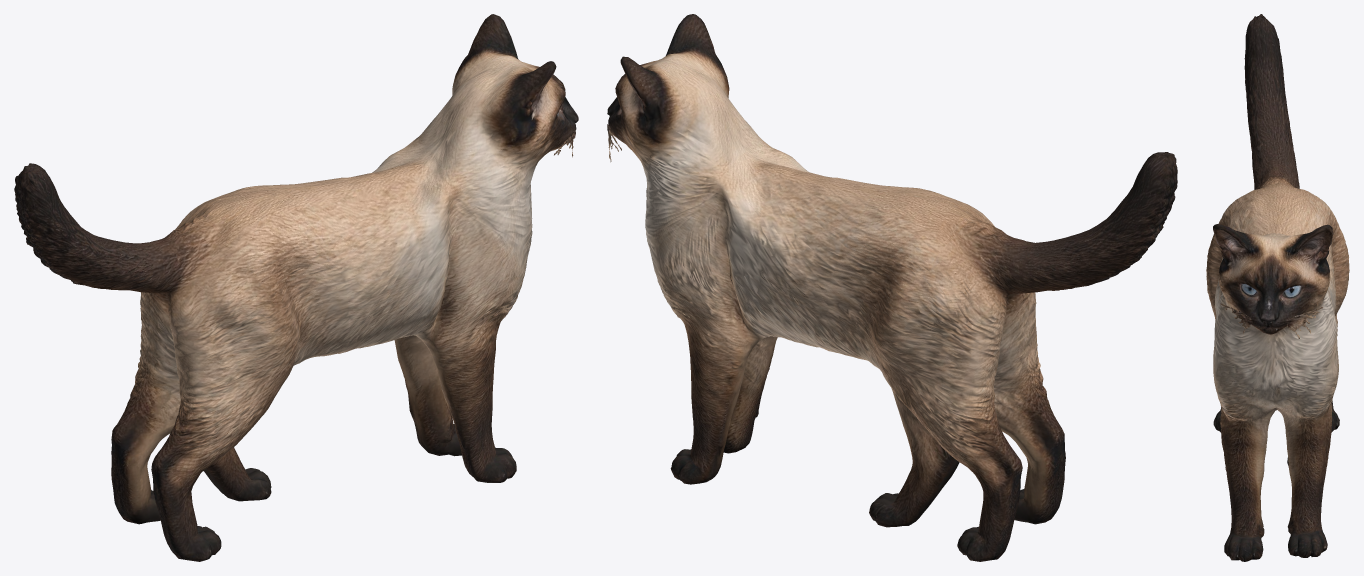
File: LEFTFANG.glb
3 renders of one model, left to right at view 1: azimuth 30°, elevation 25°; view 2: azimuth 150°, elevation 25°; view 3: azimuth 270°, elevation 25°, orthographic. The views are drawn at different scales.
Visible parts, largest first — view 1: tripo_node_a7c4d0fc-16dc-4801-b43b-c998d38e8f6b; view 2: tripo_node_a7c4d0fc-16dc-4801-b43b-c998d38e8f6b; view 3: tripo_node_a7c4d0fc-16dc-4801-b43b-c998d38e8f6b.
Part boxes in pixels (<box>): tripo_node_a7c4d0fc-16dc-4801-b43b-c998d38e8f6b: <box>14,14,578,561</box>; tripo_node_a7c4d0fc-16dc-4801-b43b-c998d38e8f6b: <box>607,14,1177,561</box>; tripo_node_a7c4d0fc-16dc-4801-b43b-c998d38e8f6b: <box>1206,14,1349,561</box>.
Bounding box in the file's own units: 1.42 × 0.9978 × 0.3666.
Materials: 1 (1 with a texture image).
